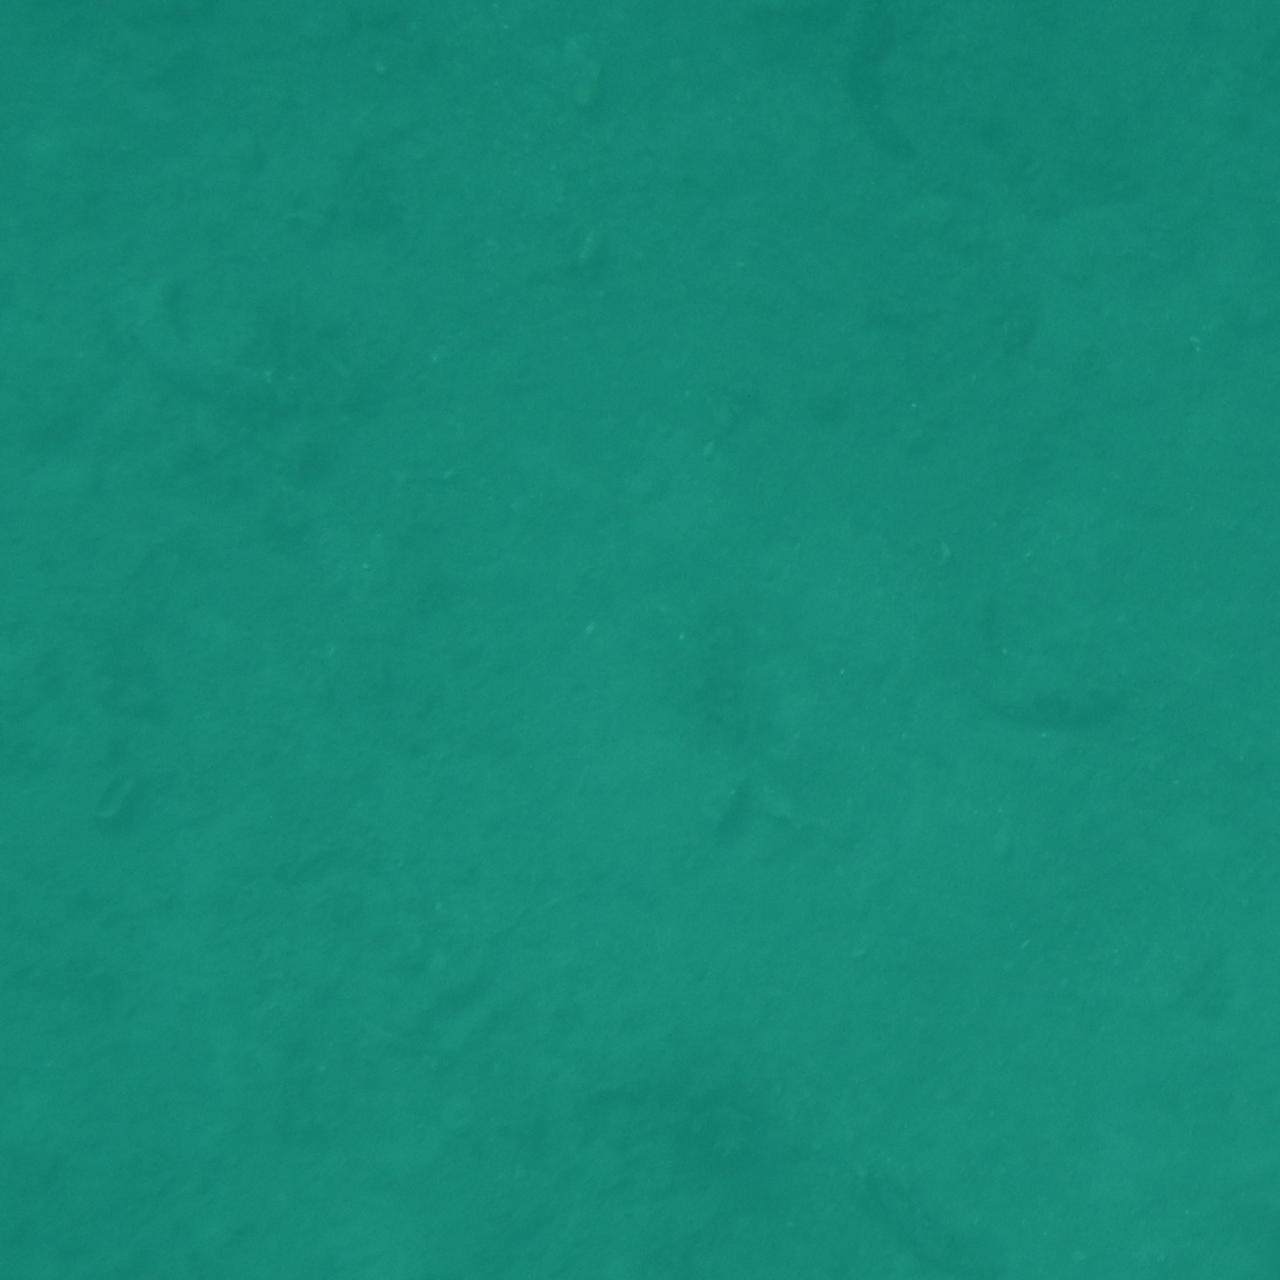Holothuria tubulosa: (822, 0, 996, 274), (0, 685, 144, 910), (0, 411, 118, 660), (863, 1142, 1042, 1280), (524, 1194, 802, 1280), (189, 0, 411, 107), (1152, 474, 1280, 642), (1133, 149, 1280, 284), (0, 164, 75, 418), (1105, 0, 1280, 105), (0, 896, 103, 1050), (0, 0, 147, 108), (973, 649, 1157, 730), (1148, 716, 1280, 822), (0, 0, 87, 157), (0, 1141, 73, 1280), (0, 0, 80, 121), (0, 1169, 82, 1280), (0, 1189, 86, 1280), (0, 0, 75, 95)
